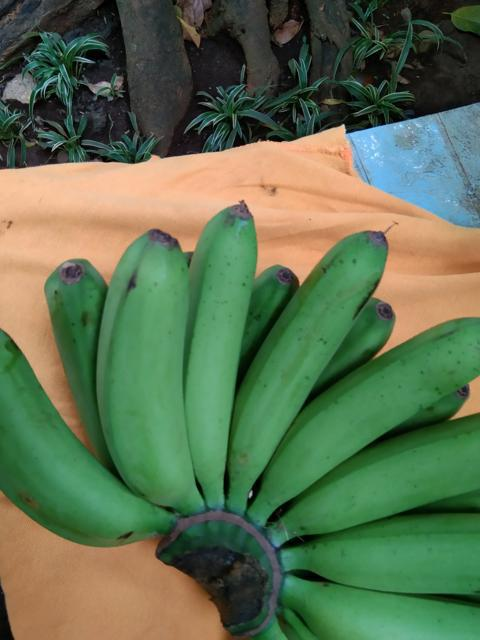freshunripe: (250, 304, 479, 511), (0, 324, 142, 549), (176, 195, 263, 491), (283, 403, 479, 527), (280, 504, 479, 598), (299, 568, 475, 639)
